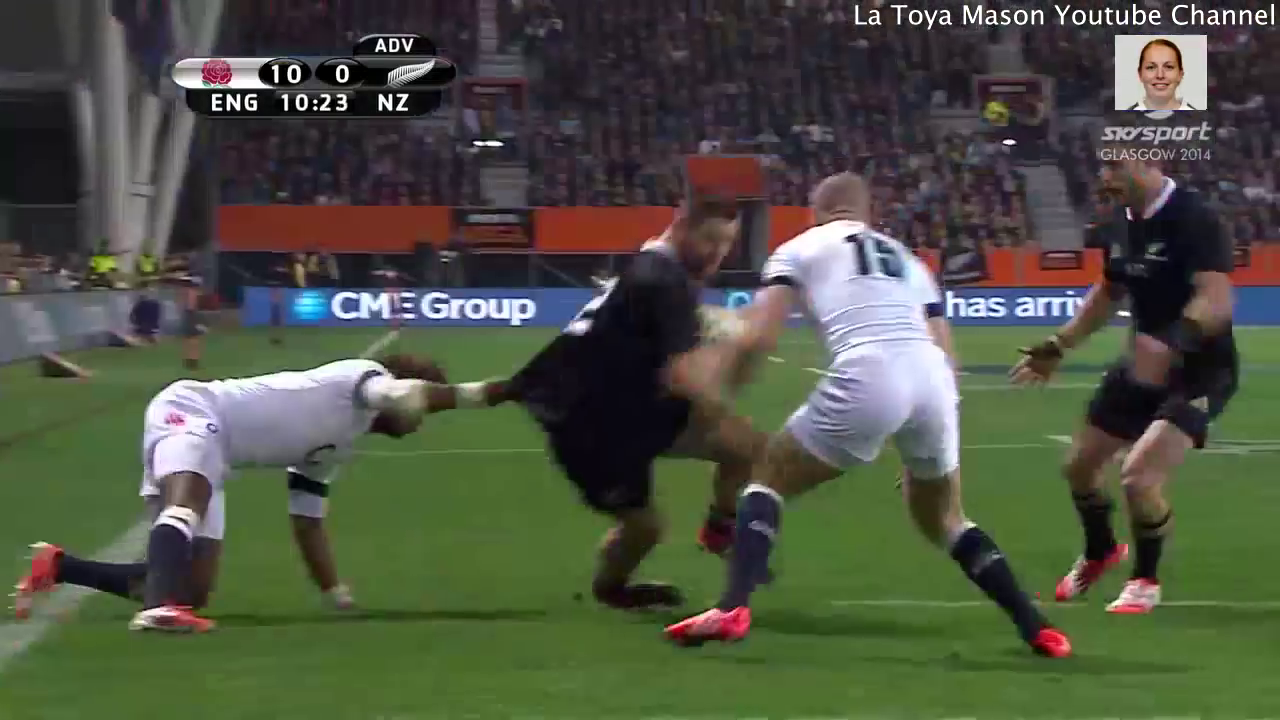player: (654, 166, 1092, 670), (1, 342, 513, 655), (474, 192, 781, 626), (1009, 120, 1251, 632)
